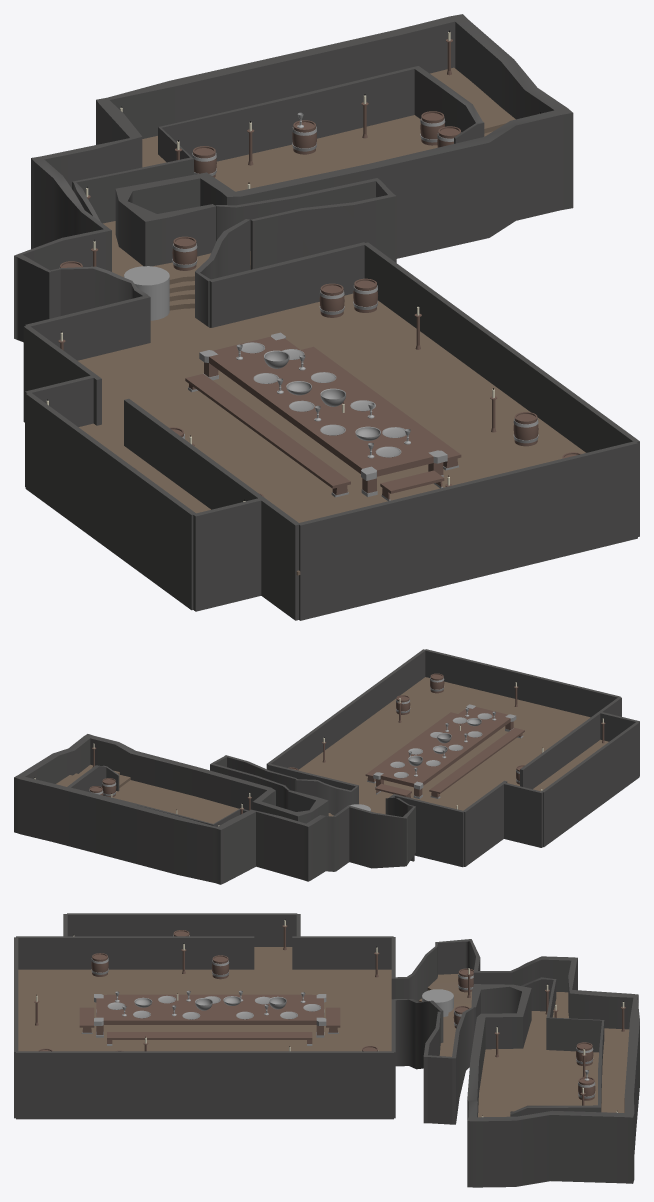
Rendered from dung.fbx.
3 renders of one model, top to bottom at view 1: azimuth 30°, elevation 25°; view 2: azimuth 150°, elevation 25°; view 3: azimuth 270°, elevation 25°, orthographic. The views are drawn at different scales.
Parts seen in each view (by area): view 1: pCube42, pCube23, pCube16, pCube14, pCube43, pCube13, pCube44, pCube12, pCube36, pCube18, pCube3, pCube15 (+14 smaller); view 2: pCube42, pCube23, pCube14, pCube16, pCube13, pCube44, pCube41, pCube19, pCube12, pCube3, pCube11, pCube17 (+10 smaller); view 3: pCube13, pCube42, pCube23, pCube12, pCube3, pCube14, pCube44, pCube43, pCube11, pCube39, pCube32, pCube38 (+11 smaller).
Boxes of the visible parts, x1,y1,x2,y2 form: pCube42: (31, 14, 573, 266); pCube23: (77, 293, 585, 575); pCube16: (297, 441, 637, 620); pCube14: (25, 392, 195, 610); pCube43: (72, 66, 484, 223); pCube13: (363, 242, 639, 536); pCube44: (199, 332, 447, 496); pCube12: (124, 398, 299, 620); pCube36: (250, 194, 396, 269); pCube18: (209, 242, 364, 327); pCube3: (215, 115, 437, 191); pCube15: (193, 497, 265, 611); pCube42: (14, 734, 349, 884); pCube23: (298, 677, 590, 814); pCube14: (541, 722, 639, 847); pCube16: (425, 649, 620, 717); pCube13: (266, 649, 425, 769); pCube44: (373, 704, 516, 798); pCube41: (347, 805, 415, 868); pCube19: (392, 794, 464, 867); pCube12: (520, 697, 621, 789); pCube3: (112, 780, 239, 823); pCube11: (463, 780, 507, 866); pCube17: (501, 783, 542, 847); pCube13: (16, 1051, 393, 1119); pCube42: (467, 956, 639, 1187); pCube23: (18, 968, 391, 1051); pCube12: (16, 936, 254, 969); pCube3: (478, 1048, 598, 1117); pCube14: (67, 913, 297, 946); pCube44: (94, 994, 326, 1037); pCube43: (510, 977, 604, 1116); pCube11: (292, 936, 393, 969); pCube39: (394, 999, 443, 1069); pCube32: (552, 992, 629, 1112); pCube38: (427, 1055, 452, 1124).
Bounding box in the file's own units: 18.99 × 3.55 × 21.82.
